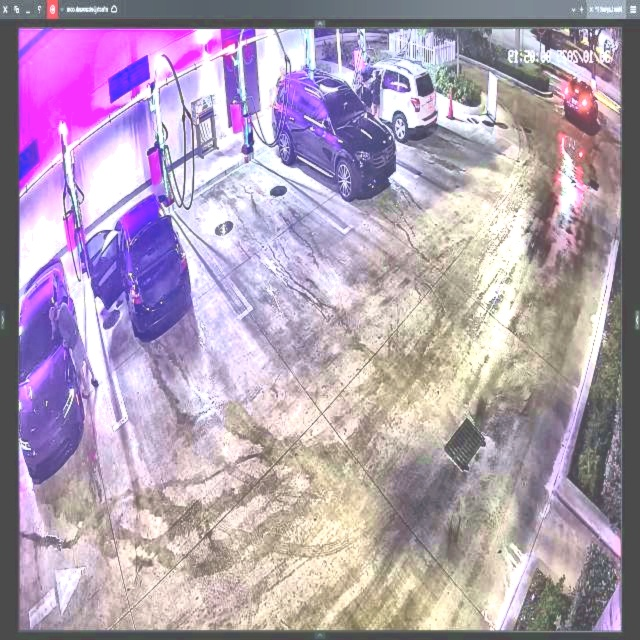Car: (82, 193, 192, 342), (272, 72, 395, 200)
